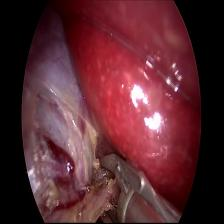Clipper: (94, 143, 169, 224)
